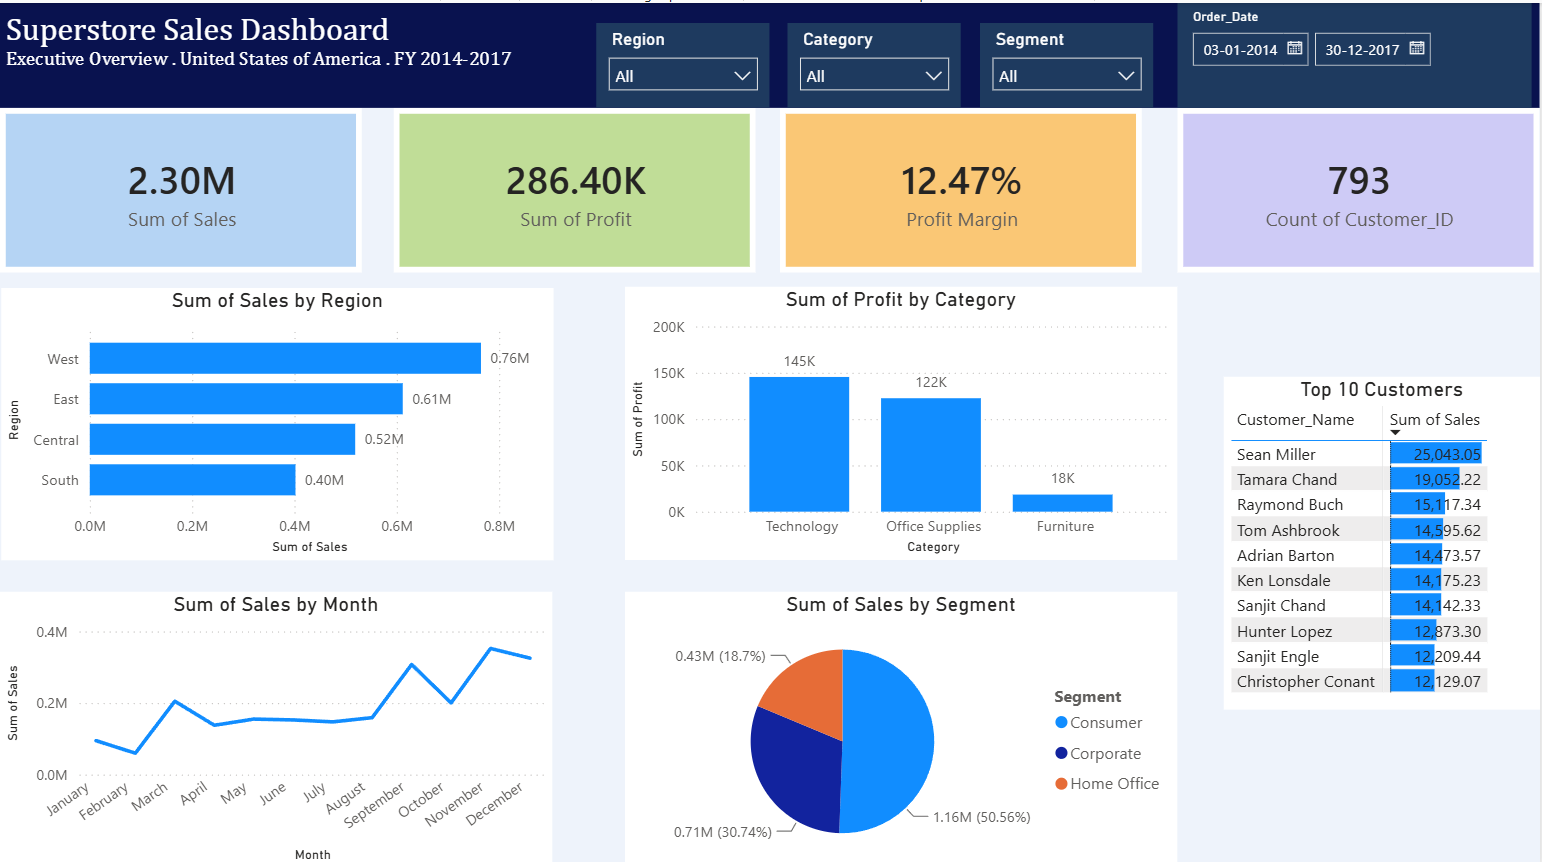

The dashboard page shown, as its layout file describes it:
{"tool":"powerbi","page":{"name":"Page 1","canvas":[1280,720],"ordinal":0},"visuals":[{"type":"textbox","box":[0,0,1280,87],"z":0},{"type":"cardVisual","fields":{"Data":["Sum(Orders_Clean.Sales)"]},"box":[0,87,301,137],"z":1000},{"type":"cardVisual","fields":{"Data":["Sum(Orders_Clean.Profit)"]},"box":[327,87,301,137],"z":2000},{"type":"cardVisual","fields":{"Data":["Orders_Clean.Profit Margin"]},"box":[648,87,301,137],"z":3000},{"type":"cardVisual","fields":{"Data":["Count(Customers_Clean.Customer_ID)"]},"box":[979,87,301,137],"z":4000},{"type":"barChart","fields":{"Category":["Customers_Clean.Region"],"Y":["Sum(Orders_Clean.Sales)"]},"box":[1,237,459,226],"z":5000},{"type":"clusteredColumnChart","fields":{"Category":["Orders_Clean.Category"],"Y":["Sum(Orders_Clean.Profit)"]},"box":[520,236,459,227],"z":6000},{"type":"lineChart","fields":{"Category":["Orders_Clean.Order_Date.Variation.Date Hierarchy.Month"],"Y":["Sum(Orders_Clean.Sales)"]},"box":[0,490,459,230],"z":7000},{"type":"tableEx","title":"Top 10 Customers","fields":{"Values":["Customers_Clean.Customer_Name","Sum(Orders_Clean.Sales)"]},"box":[1017,311,263,277],"z":8000},{"type":"pieChart","fields":{"Category":["Customers_Clean.Segment"],"Y":["Sum(Orders_Clean.Sales)"]},"box":[520,490,459,230],"z":9000},{"type":"slicer","fields":{"Values":["Customers_Clean.Region"]},"box":[496,17,144,70],"z":10000},{"type":"slicer","fields":{"Values":["Orders_Clean.Category"]},"box":[655,17,144,70],"z":11000},{"type":"slicer","fields":{"Values":["Orders_Clean.Order_Date"]},"box":[979,0,294,87],"z":12000},{"type":"slicer","fields":{"Values":["Customers_Clean.Segment"]},"box":[815,17,144,70],"z":13000}]}

Visuals, with their boxes in screenshot pixels (x1, y1, x2, y2), scaled from the page's 1280x720 canvas onto the 1542x862 screenshot:
textbox: [0, 0, 1541, 104]
cardVisual - Sum(Orders_Clean.Sales): [0, 104, 363, 268]
cardVisual - Sum(Orders_Clean.Profit): [394, 104, 757, 268]
cardVisual - Orders_Clean.Profit Margin: [781, 104, 1143, 268]
cardVisual - Count(Customers_Clean.Customer_ID): [1179, 104, 1541, 268]
barChart - Customers_Clean.Region x Sum(Orders_Clean.Sales): [1, 284, 554, 554]
clusteredColumnChart - Orders_Clean.Category x Sum(Orders_Clean.Profit): [626, 283, 1179, 554]
lineChart - Orders_Clean.Order_Date.Variation.Date Hierarchy.Month x Sum(Orders_Clean.Sales): [0, 587, 553, 861]
"Top 10 Customers" tableEx: [1225, 372, 1541, 704]
pieChart - Customers_Clean.Segment x Sum(Orders_Clean.Sales): [626, 587, 1179, 861]
slicer - Customers_Clean.Region: [598, 20, 771, 104]
slicer - Orders_Clean.Category: [789, 20, 963, 104]
slicer - Orders_Clean.Order_Date: [1179, 0, 1534, 104]
slicer - Customers_Clean.Segment: [982, 20, 1155, 104]
